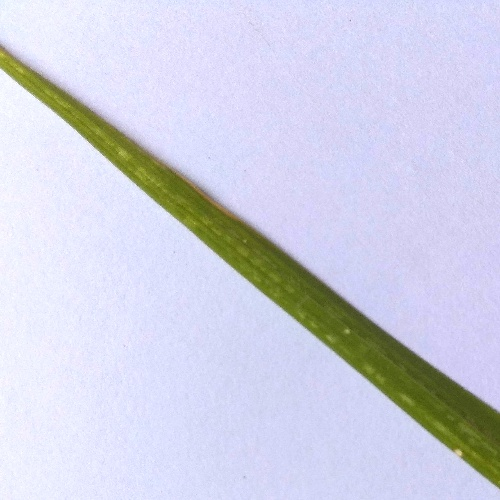Busuk Leher: (172, 163, 233, 216)
